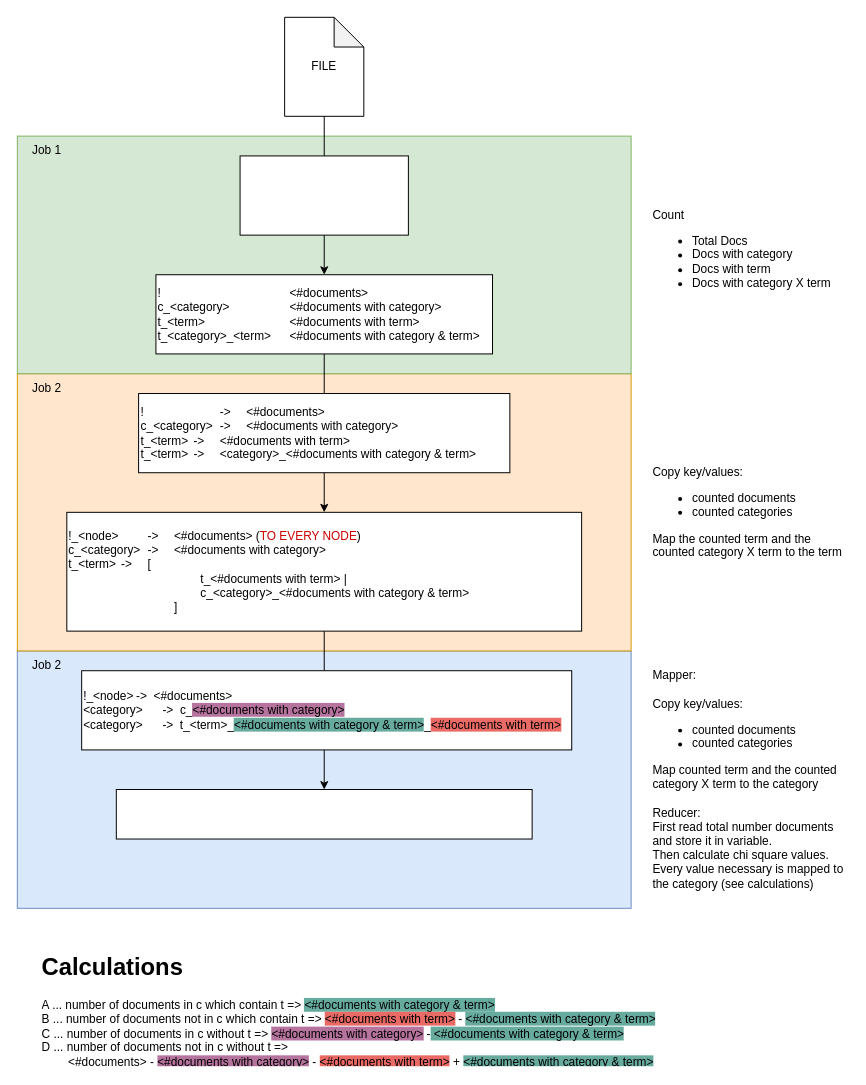
This 866x1085 diagram has some shape labels left out. The box of each missing label's shape, as (x1, y1, x2, y2) in pixels:
! -> 1 c_<category> -> 1 t_<term> -> 1 t_<category>_<term> -> 1: (239, 155, 408, 235)
c_<category> - > < term_1>:<chi^2_value> < term_2>:<chi^2_value>: (115, 789, 532, 839)
